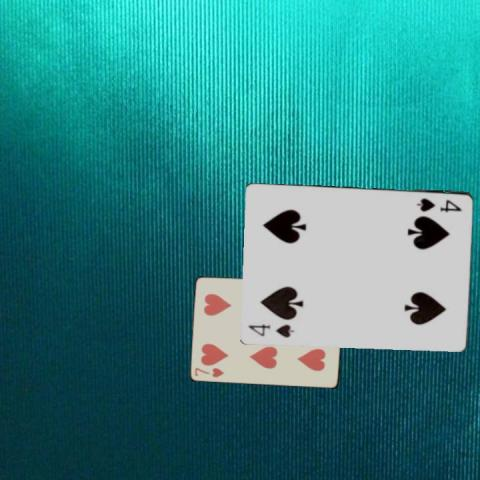4s: (246, 320, 296, 338), (414, 195, 463, 213)
7h: (192, 364, 225, 378)
